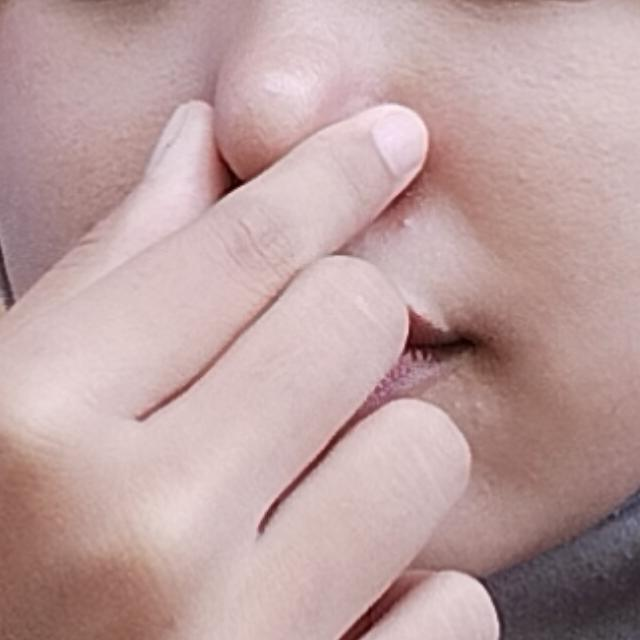bau: (0, 48, 576, 640)
